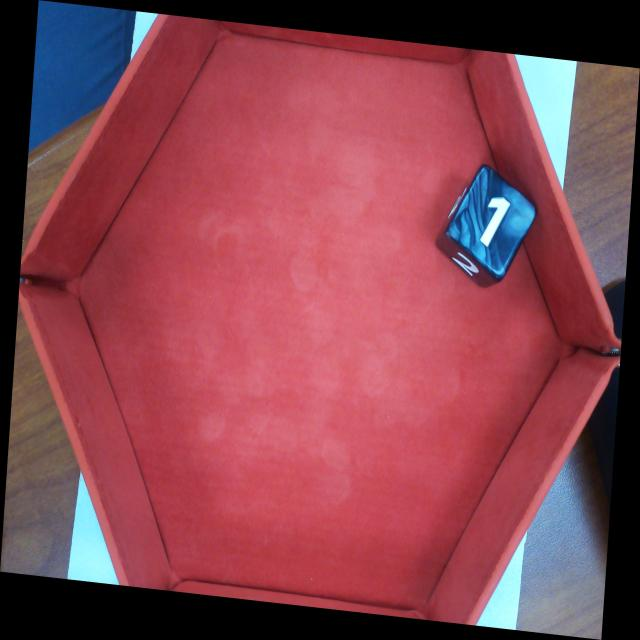dice: (447, 164, 537, 279)
